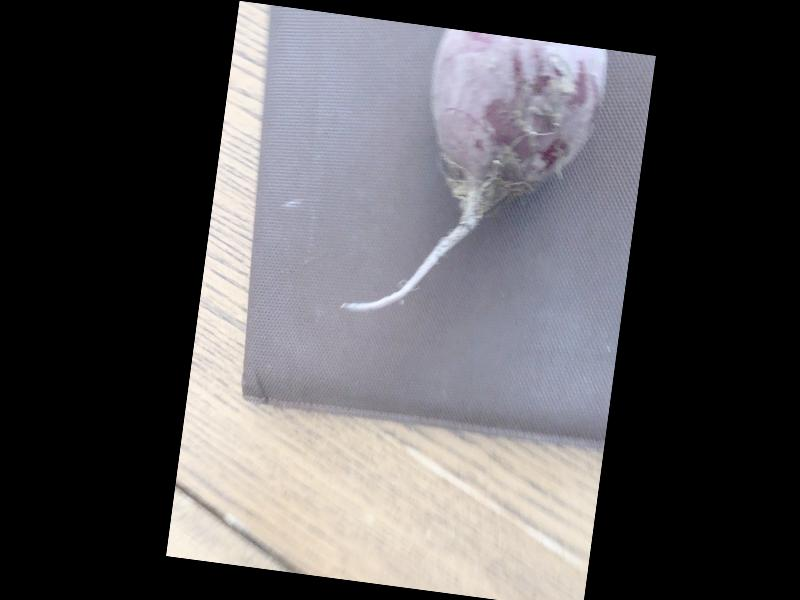Beet: (342, 21, 609, 339)
